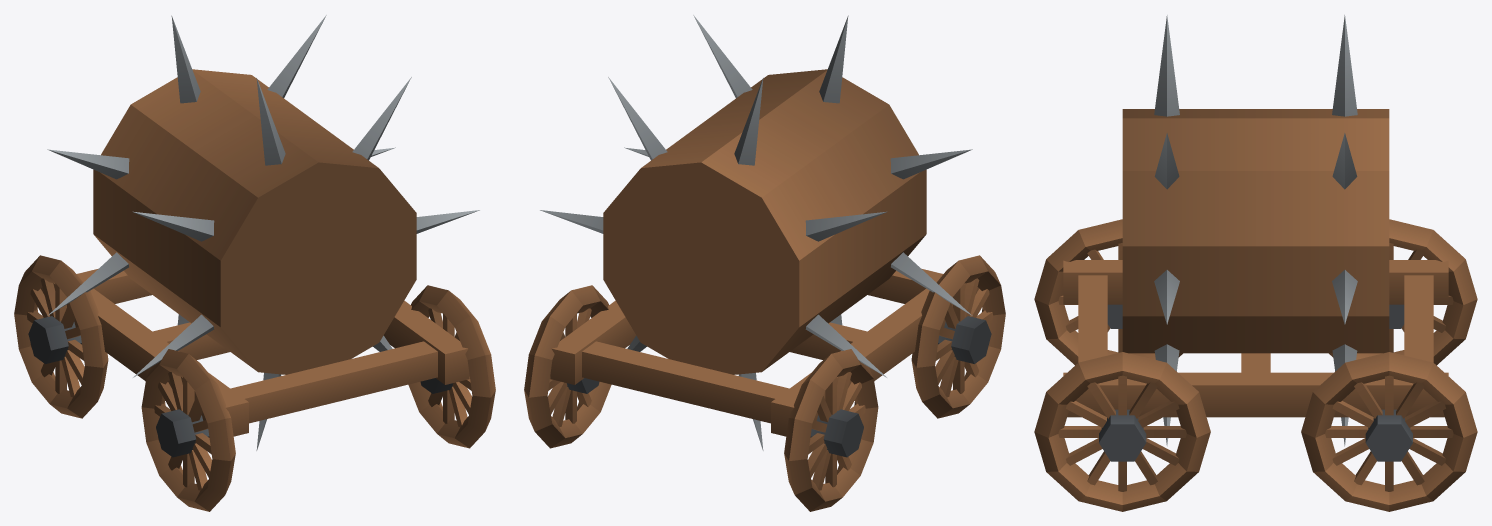
Rendered from EXPCART.glb.
3 renders of one model, left to right at view 1: azimuth 30°, elevation 25°; view 2: azimuth 150°, elevation 25°; view 3: azimuth 270°, elevation 25°, orthographic. The views are drawn at different scales.
Parts seen in each view (by area): view 1: Body, Wheel_0, Wheel_2, Wheel_1; view 2: Body, Wheel_2, Wheel_0, Wheel_3; view 3: Body, Wheel_1, Wheel_3, Wheel_0, Wheel_2.
Part boxes in pixels (x1,y1,x2,y2): Body: (41,15,479,450); Wheel_0: (141,349,235,511); Wheel_2: (14,255,108,418); Wheel_1: (408,285,495,448); Body: (540,15,978,450); Wheel_2: (784,349,878,511); Wheel_0: (911,255,1005,418); Wheel_3: (524,285,611,448); Body: (1063,15,1448,446); Wheel_1: (1034,352,1210,511); Wheel_3: (1301,352,1477,511); Wheel_0: (1034,219,1182,365); Wheel_2: (1329,219,1477,365).
Size of the model in its own units: 1.43 by 1.53 by 1.5.
1 material, 1 textured.
